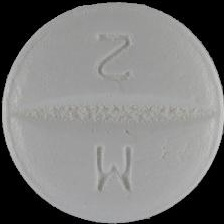68645-478: (0, 0, 224, 224)
